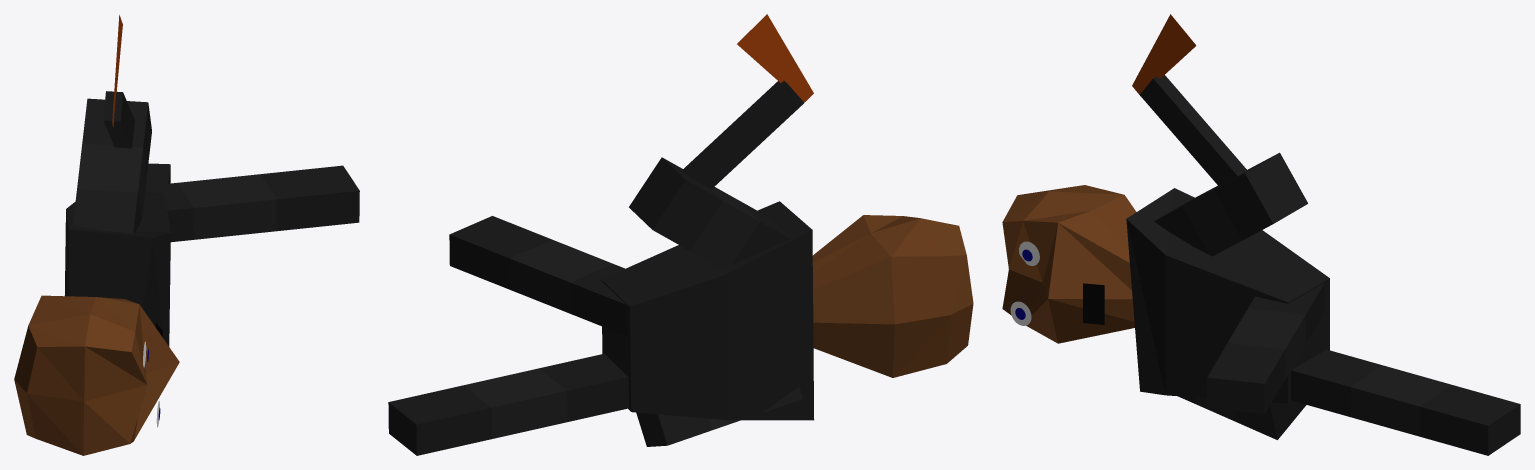
File: axeman3d.obj
3 views of the same model, side by side, from view 1: azimuth 30°, elevation 25°; view 2: azimuth 150°, elevation 25°; view 3: azimuth 270°, elevation 25° (orthographic). The views are drawn at different scales.
Visible parts, largest first — view 1: Cube, Cube.005, Cube.001, Cube.002, Cube.007, Cube.004, Plane.001; view 2: Cube.001, Cube, Cube.004, Cube.005, Cube.002, Cube.007, Plane.001, Cube.003; view 3: Cube.001, Cube, Cube.004, Cube.005, Cube.002, Cube.007, Plane.001, Cube.003, Plane.
Part boxes in pixels (<box>): Cube: <box>14,295,179,455</box>; Cube.005: <box>145,165,359,242</box>; Cube.001: <box>64,192,170,346</box>; Cube.002: <box>73,98,151,233</box>; Cube.007: <box>103,91,134,148</box>; Cube.004: <box>146,163,170,185</box>; Plane.001: <box>112,15,122,126</box>; Cube.001: <box>601,201,814,420</box>; Cube: <box>812,215,973,377</box>; Cube.004: <box>388,354,628,455</box>; Cube.005: <box>449,216,626,335</box>; Cube.002: <box>629,157,790,268</box>; Cube.007: <box>682,81,804,189</box>; Plane.001: <box>737,14,813,102</box>; Cube.003: <box>636,387,802,446</box>; Cube.001: <box>1126,188,1329,403</box>; Cube: <box>1002,185,1136,343</box>; Cube.004: <box>1291,349,1520,455</box>; Cube.005: <box>1207,282,1324,413</box>; Cube.002: <box>1154,152,1307,256</box>; Cube.007: <box>1140,75,1247,186</box>; Plane.001: <box>1132,14,1196,96</box>; Cube.003: <box>1178,396,1306,439</box>; Plane: <box>1083,283,1104,324</box>.
Size of the model in its own units: 4.83 by 4.51 by 5.36.
